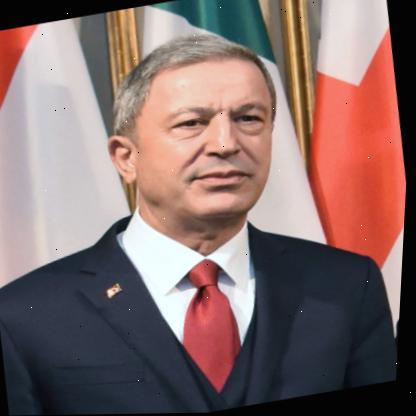person: (81, 14, 311, 248)
